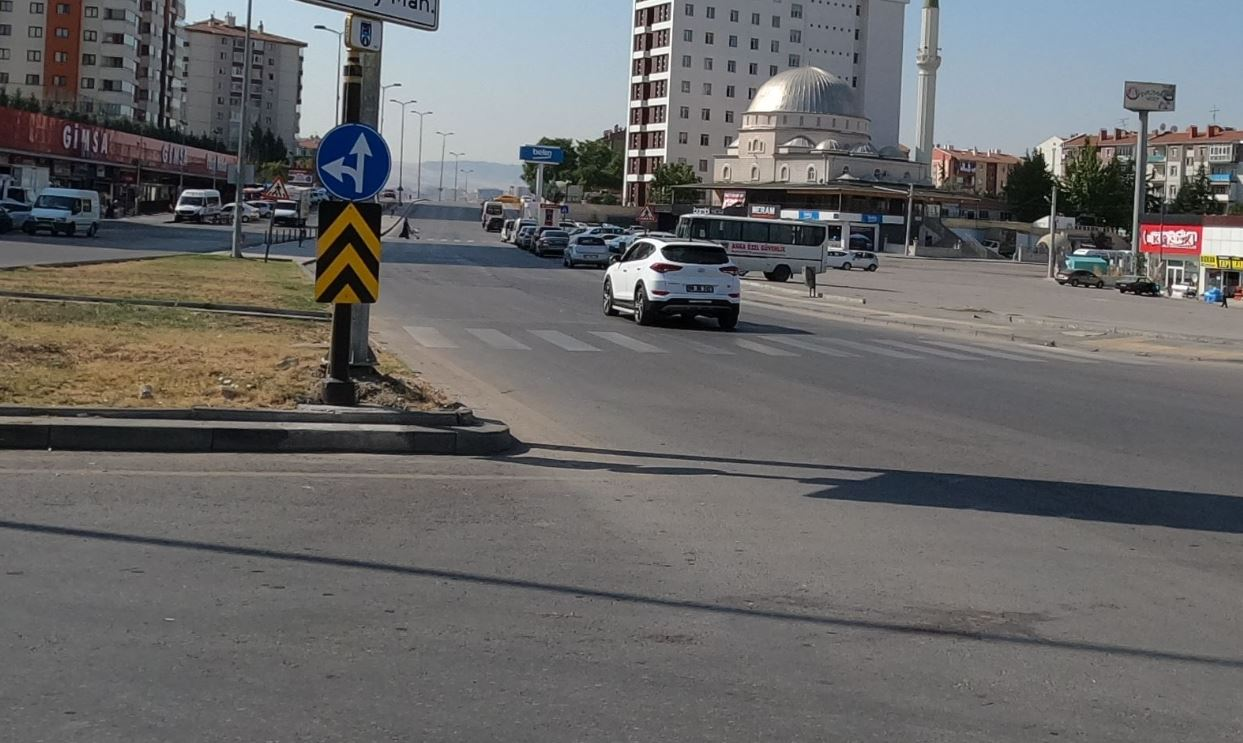ileri ve Sola Mecburi Don: (316, 116, 403, 203)
